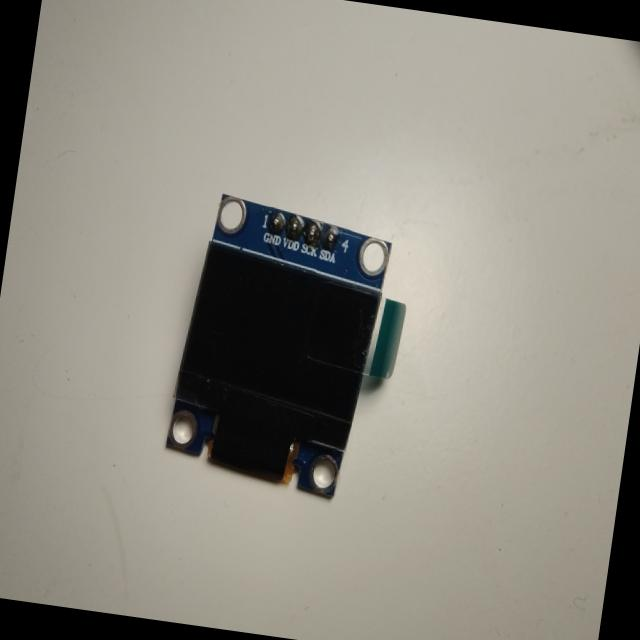oled: (158, 180, 422, 522)
